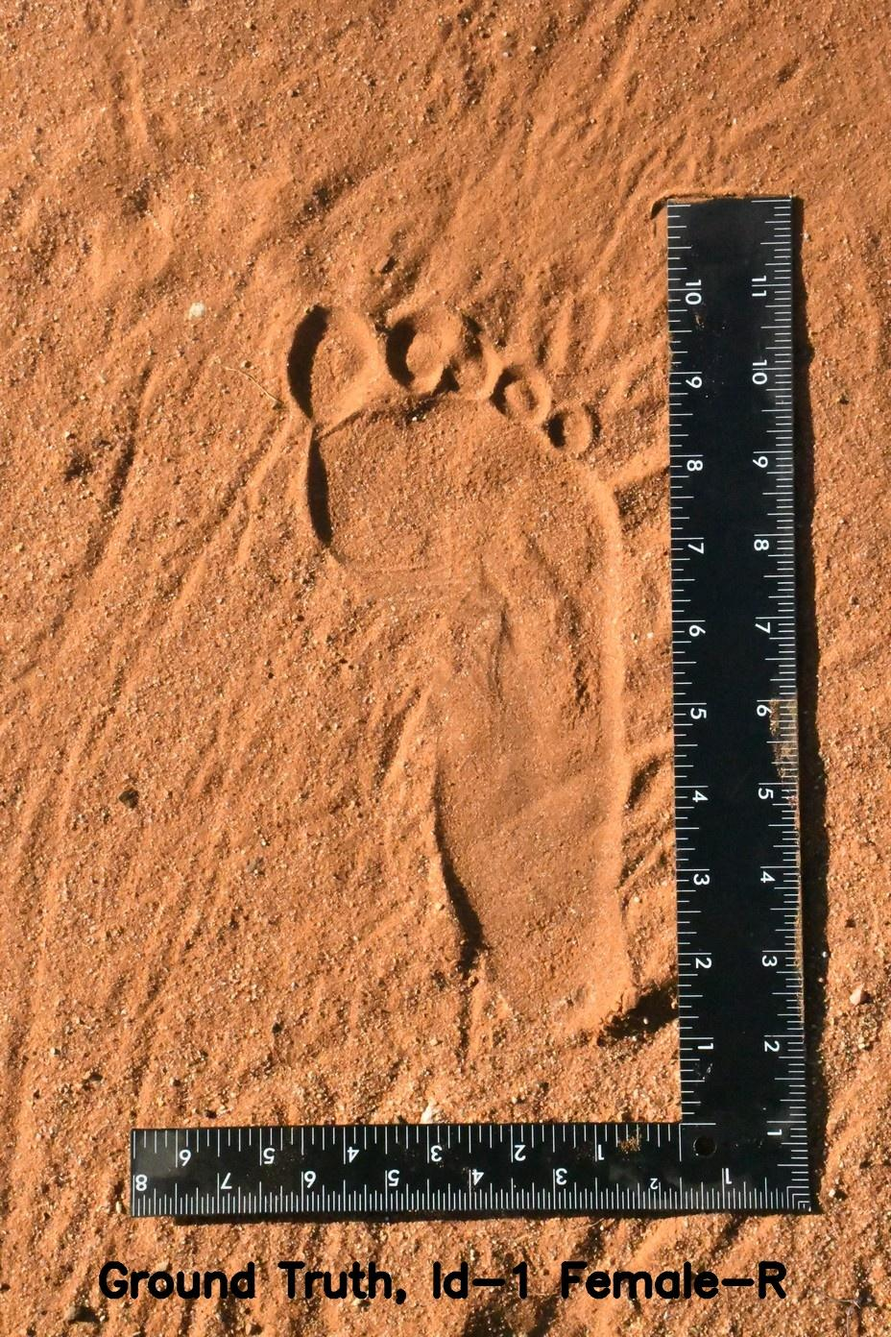human_footprint: (231, 241, 679, 1063)
